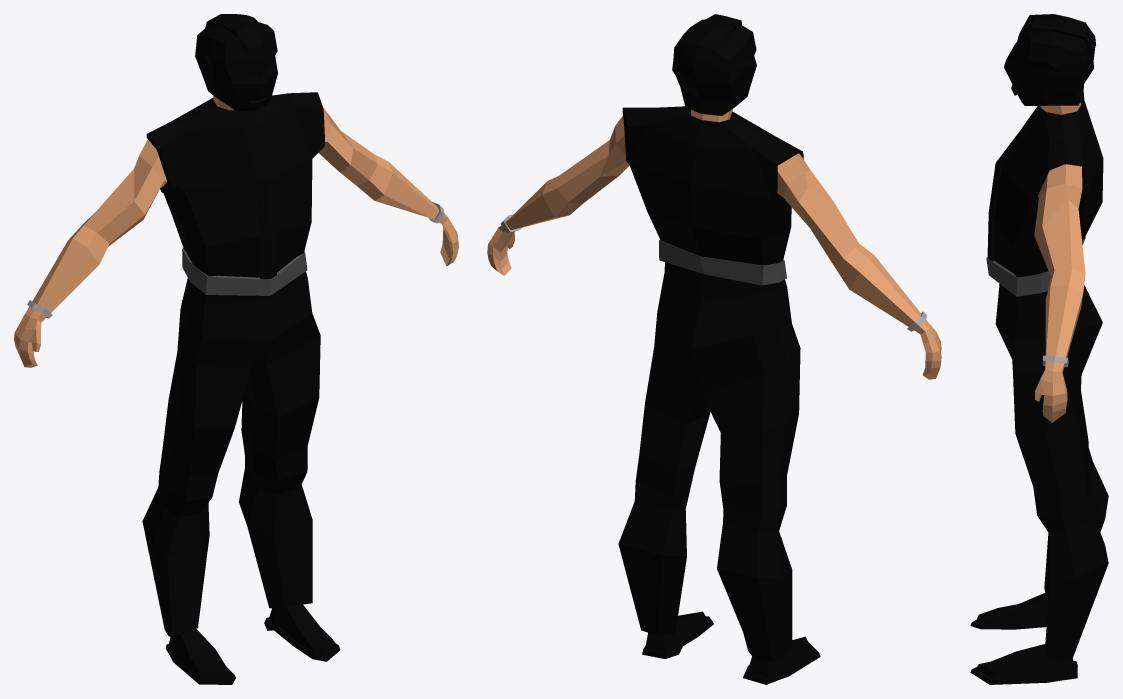
File: Personaje.fbx
3 renders of one model, left to right at view 1: azimuth 30°, elevation 25°; view 2: azimuth 150°, elevation 25°; view 3: azimuth 270°, elevation 25°, orthographic. The views are drawn at different scales.
Visible parts, largest first — view 1: Pantalones, Torso, Personaje, Casco.003, Zapatos, Cinturo; view 2: Pantalones, Torso, Personaje, Casco.003, Zapatos, Cinturo; view 3: Pantalones, Torso, Personaje, Casco.003, Zapatos, Cinturo.
Part boxes in pixels (bbox=[...]): Pantalones: bbox=[142, 271, 320, 637]; Torso: bbox=[146, 92, 325, 279]; Personaje: bbox=[14, 96, 458, 367]; Casco.003: bbox=[195, 14, 277, 111]; Zapatos: bbox=[165, 604, 340, 684]; Cinturo: bbox=[182, 248, 307, 295]; Pantalones: bbox=[618, 262, 800, 662]; Torso: bbox=[622, 106, 803, 265]; Personaje: bbox=[487, 109, 941, 379]; Casco.003: bbox=[672, 14, 756, 115]; Zapatos: bbox=[642, 611, 820, 684]; Cinturo: bbox=[659, 240, 786, 285]; Pantalones: bbox=[995, 284, 1108, 660]; Torso: bbox=[987, 93, 1103, 277]; Personaje: bbox=[1034, 102, 1085, 422]; Casco.003: bbox=[1004, 14, 1095, 105]; Zapatos: bbox=[970, 592, 1077, 684]; Cinturo: bbox=[986, 237, 1085, 296].
Size of the model in its own units: 334 by 454 by 90.27.
